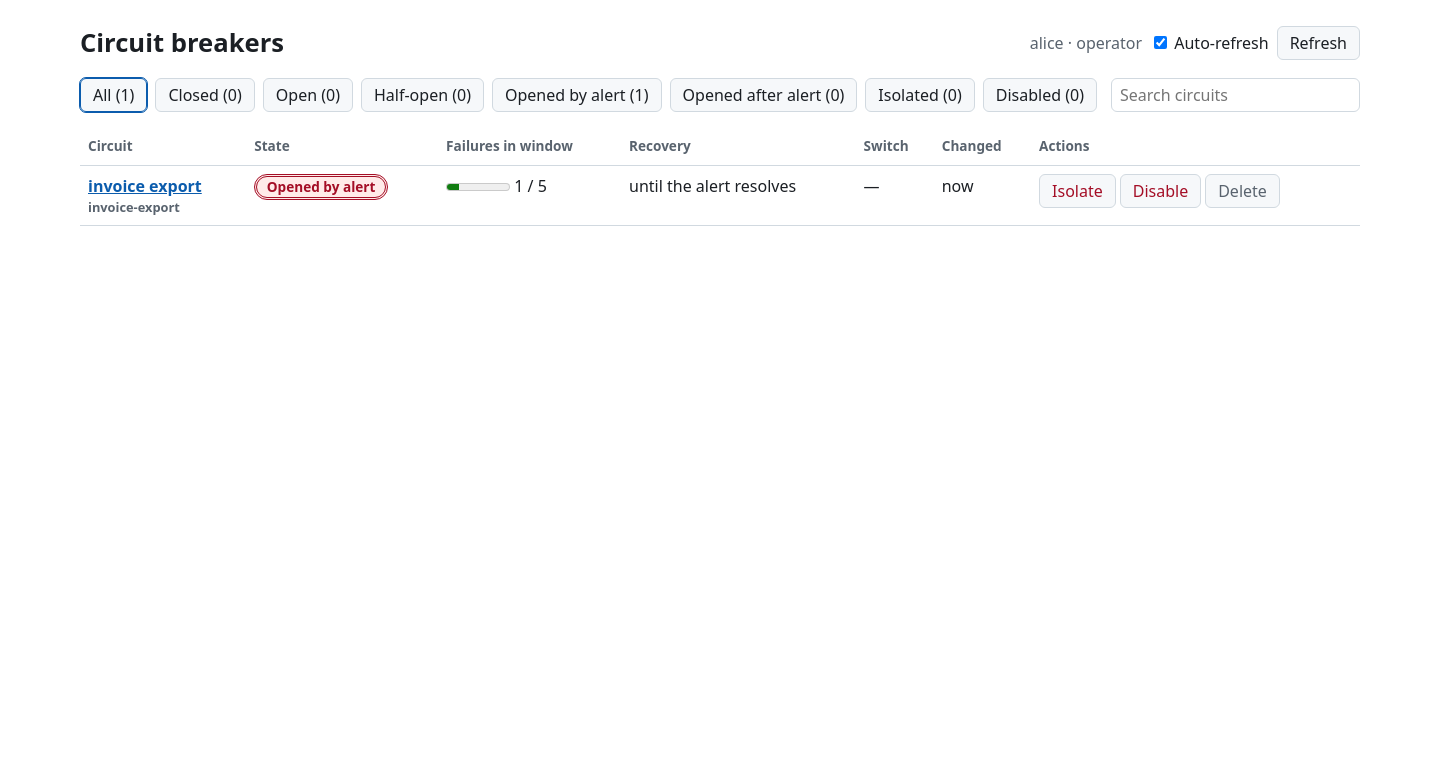
Scenario: the circuit console › shows an alert-held circuit without Reset, with the rule that tripped it
This screenshot has width=1440, height=784.
Expected: the text "Opened by alert" is shown, [254,174,388,200]
Expected: the text "until the alert resolves" is shown, [621,166,856,226]
Click the button "invoice export" at (145, 186), box [88,174,202,198]
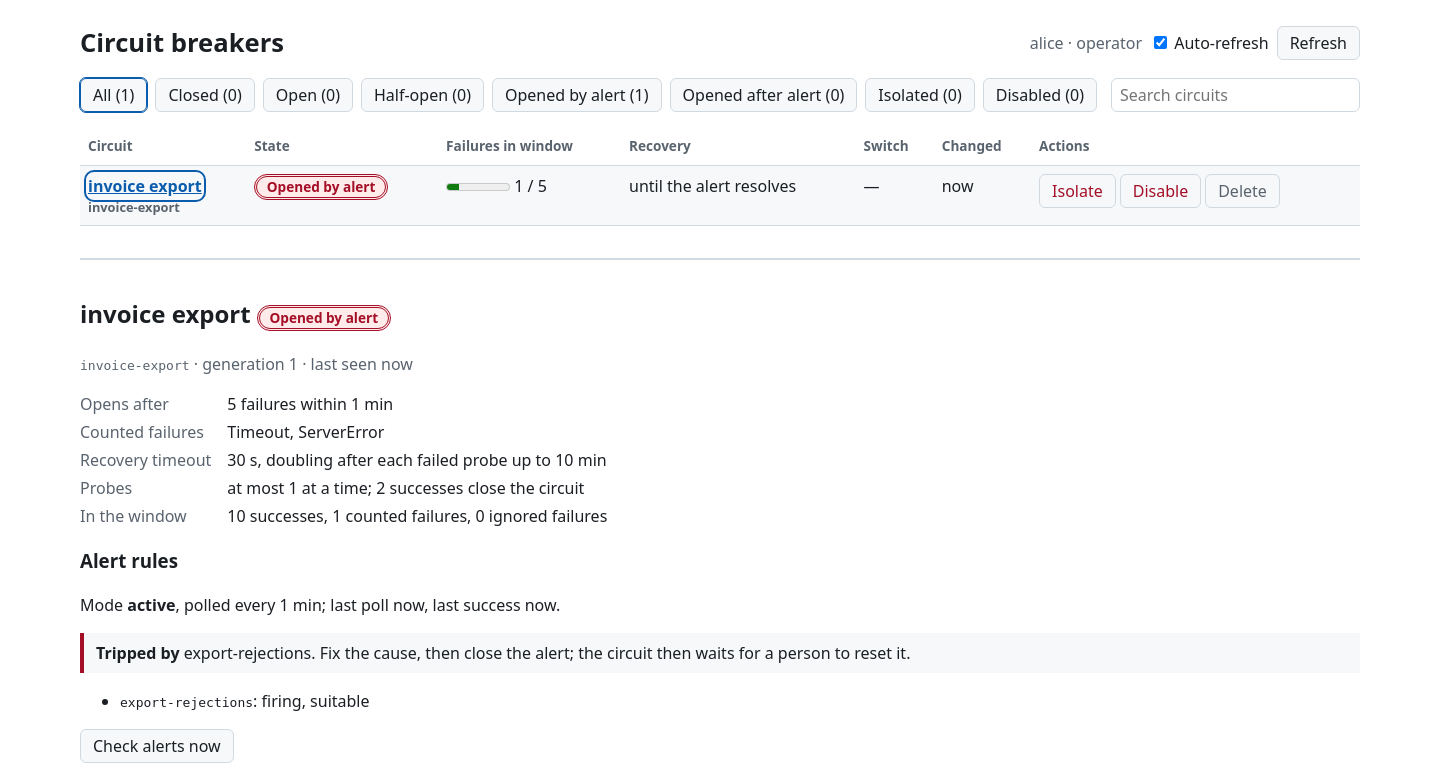
Click the button "Check alerts now" at (157, 746), box [80,729,234,763]
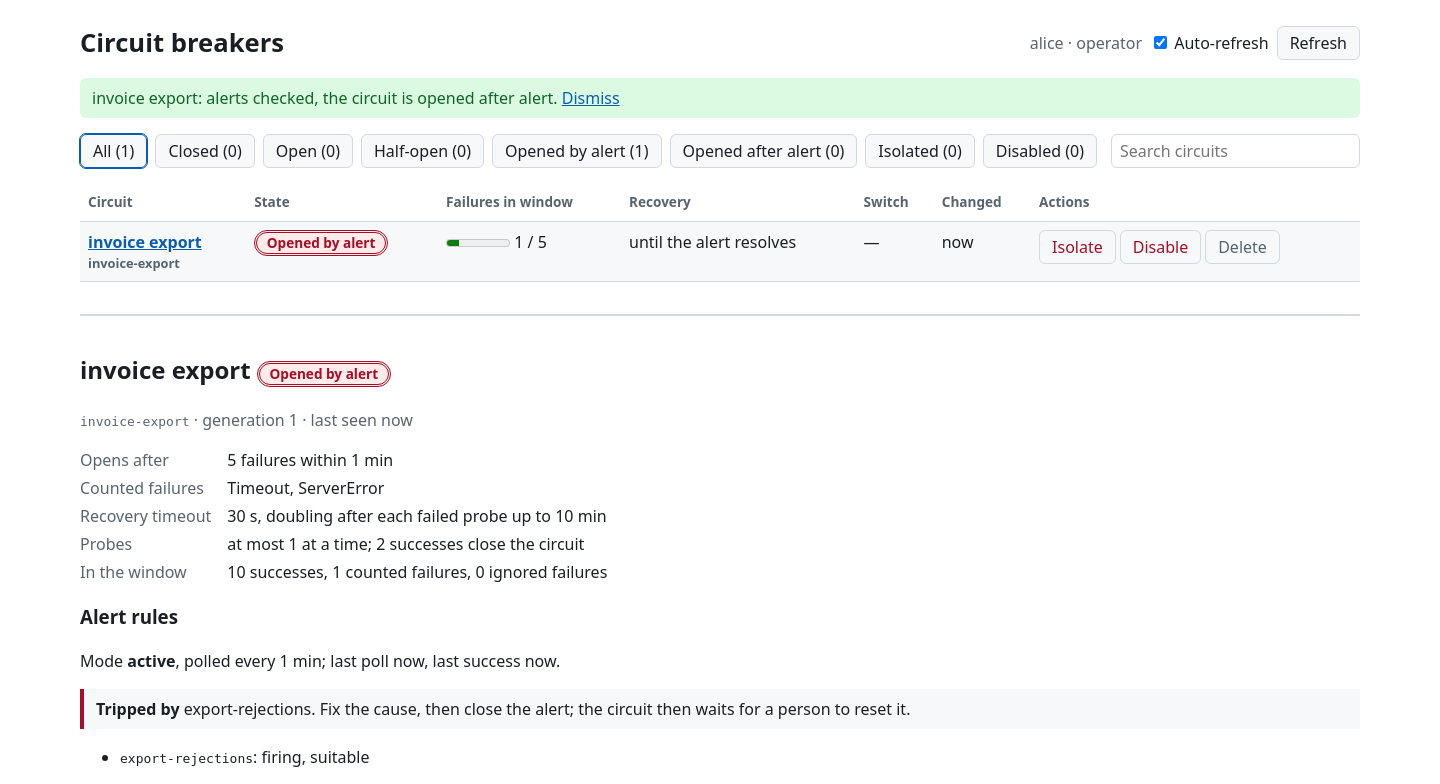
Result: the message shows "the circuit is opened after alert" at [92,87,558,109]
